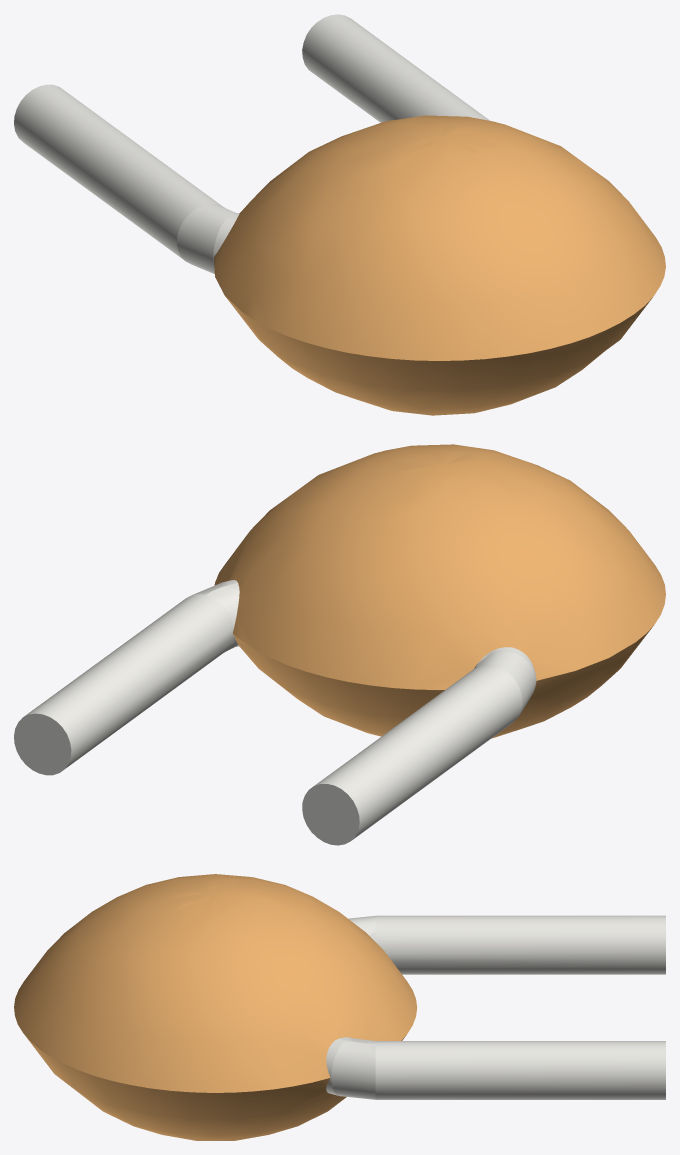
The model's file is C_Disc_D3.4mm_W2.1mm_P2.50mm.glb.
The picture shows the model from 3 angles, top to bottom: view 1: azimuth 30°, elevation 25°; view 2: azimuth 150°, elevation 25°; view 3: azimuth 270°, elevation 25°; orthographic projection. The views are drawn at different scales.
Parts seen in each view (by area): view 1: Shape_IndexedFaceSet.003, Shape_IndexedFaceSet.004, Shape_IndexedFaceSet.001, Shape_IndexedFaceSet.007, Shape_IndexedFaceSet.002; view 2: Shape_IndexedFaceSet.003, Shape_IndexedFaceSet.007, Shape_IndexedFaceSet.001, Shape_IndexedFaceSet.004, Shape_IndexedFaceSet.013, Shape_IndexedFaceSet, Shape_IndexedFaceSet.002, Shape_IndexedFaceSet.008; view 3: Shape_IndexedFaceSet.003, Shape_IndexedFaceSet.007, Shape_IndexedFaceSet.001, Shape_IndexedFaceSet.004, Shape_IndexedFaceSet.011, Shape_IndexedFaceSet.010.
Boxes of the visible parts, x1=… form: Shape_IndexedFaceSet.003: x1=214, y1=115, x2=665, y2=360; Shape_IndexedFaceSet.004: x1=225, y1=296, x2=652, y2=415; Shape_IndexedFaceSet.001: x1=14, y1=84, x2=222, y2=260; Shape_IndexedFaceSet.007: x1=302, y1=14, x2=489, y2=122; Shape_IndexedFaceSet.002: x1=177, y1=204, x2=235, y2=273; Shape_IndexedFaceSet.003: x1=214, y1=444, x2=665, y2=689; Shape_IndexedFaceSet.007: x1=24, y1=594, x2=233, y2=768; Shape_IndexedFaceSet.001: x1=314, y1=664, x2=522, y2=840; Shape_IndexedFaceSet.004: x1=233, y1=625, x2=653, y2=738; Shape_IndexedFaceSet.013: x1=14, y1=713, x2=71, y2=775; Shape_IndexedFaceSet: x1=302, y1=784, x2=359, y2=845; Shape_IndexedFaceSet.002: x1=474, y1=651, x2=536, y2=715; Shape_IndexedFaceSet.008: x1=206, y1=584, x2=239, y2=627; Shape_IndexedFaceSet.003: x1=14, y1=874, x2=417, y2=1092; Shape_IndexedFaceSet.007: x1=375, y1=1041, x2=665, y2=1099; Shape_IndexedFaceSet.001: x1=375, y1=915, x2=665, y2=974; Shape_IndexedFaceSet.004: x1=25, y1=1035, x2=406, y2=1140; Shape_IndexedFaceSet.011: x1=331, y1=1040, x2=375, y2=1099; Shape_IndexedFaceSet.010: x1=326, y1=1038, x2=345, y2=1095.
Bounding box in the file's own units: 1.34 × 0.826 × 2.17.
